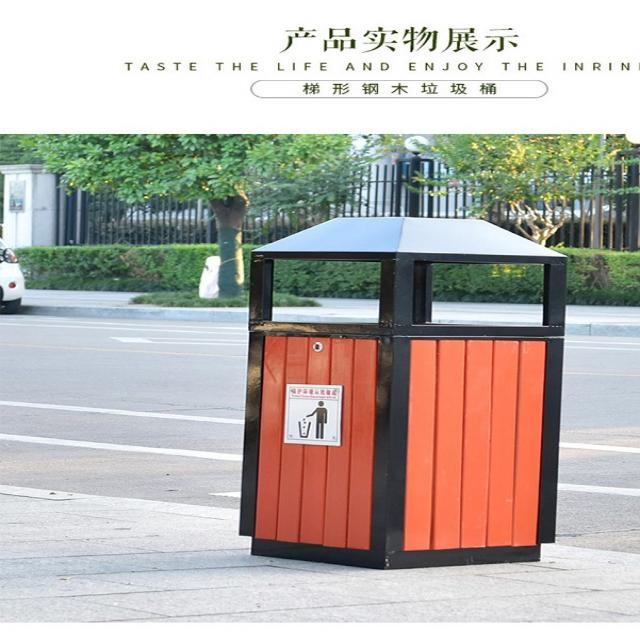ash bin: (240, 210, 574, 570)
car: (1, 238, 27, 310)
